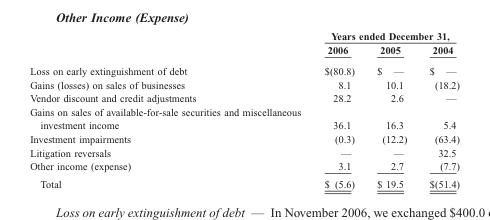table: (29, 29, 458, 188)
table column: (29, 29, 311, 188), (311, 29, 365, 188), (365, 29, 417, 188), (417, 29, 458, 188)
table column header: (29, 29, 458, 60)
table row: (29, 104, 458, 131), (29, 42, 458, 60), (29, 60, 458, 77), (29, 158, 458, 174), (29, 77, 458, 91), (29, 131, 458, 145), (29, 174, 458, 188), (29, 29, 458, 42), (29, 91, 458, 104), (29, 145, 458, 158)
table spanning cell: (311, 29, 458, 42)
